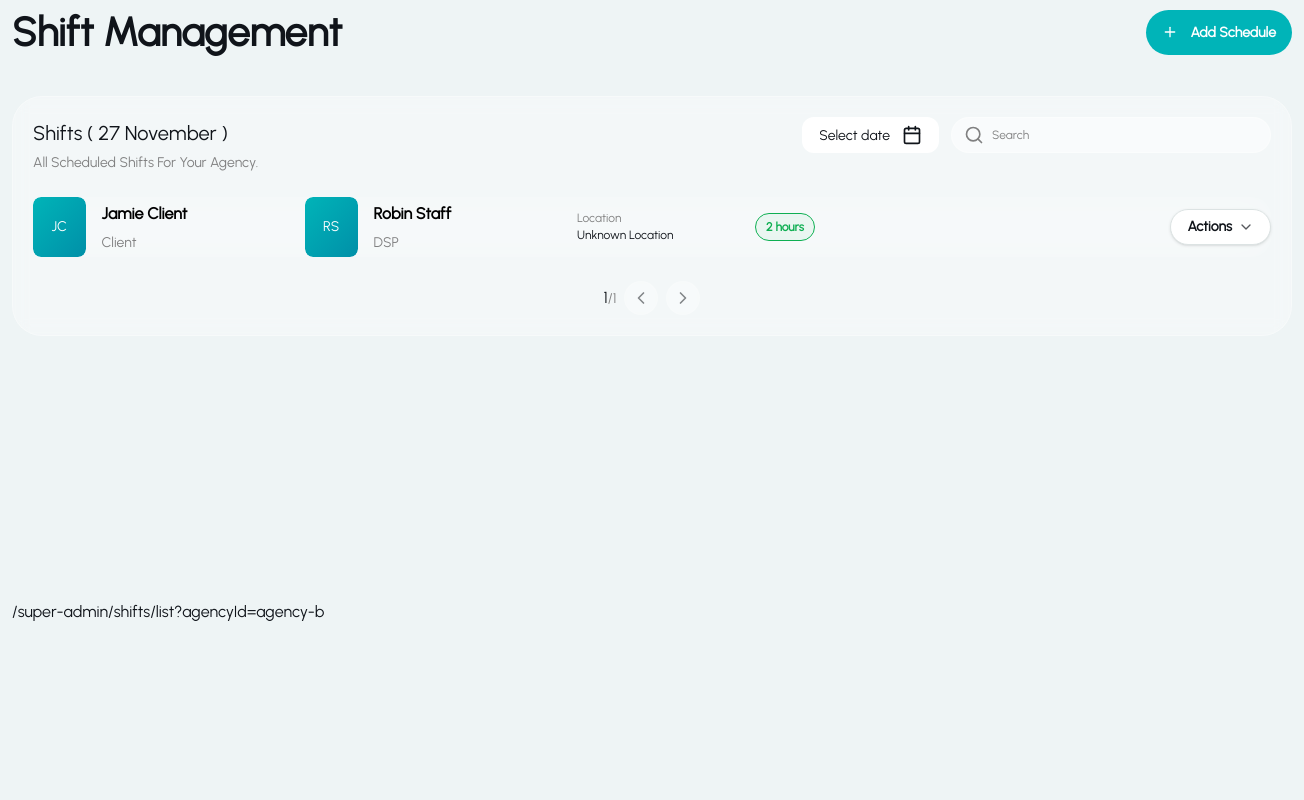
shared operational shift pages › opens a right-aligned row action menu with Details first and preserves super-admin scope
Click the button with aria-label "Shift actions for Jamie Client": [1221, 227] box [1170, 209, 1271, 245]
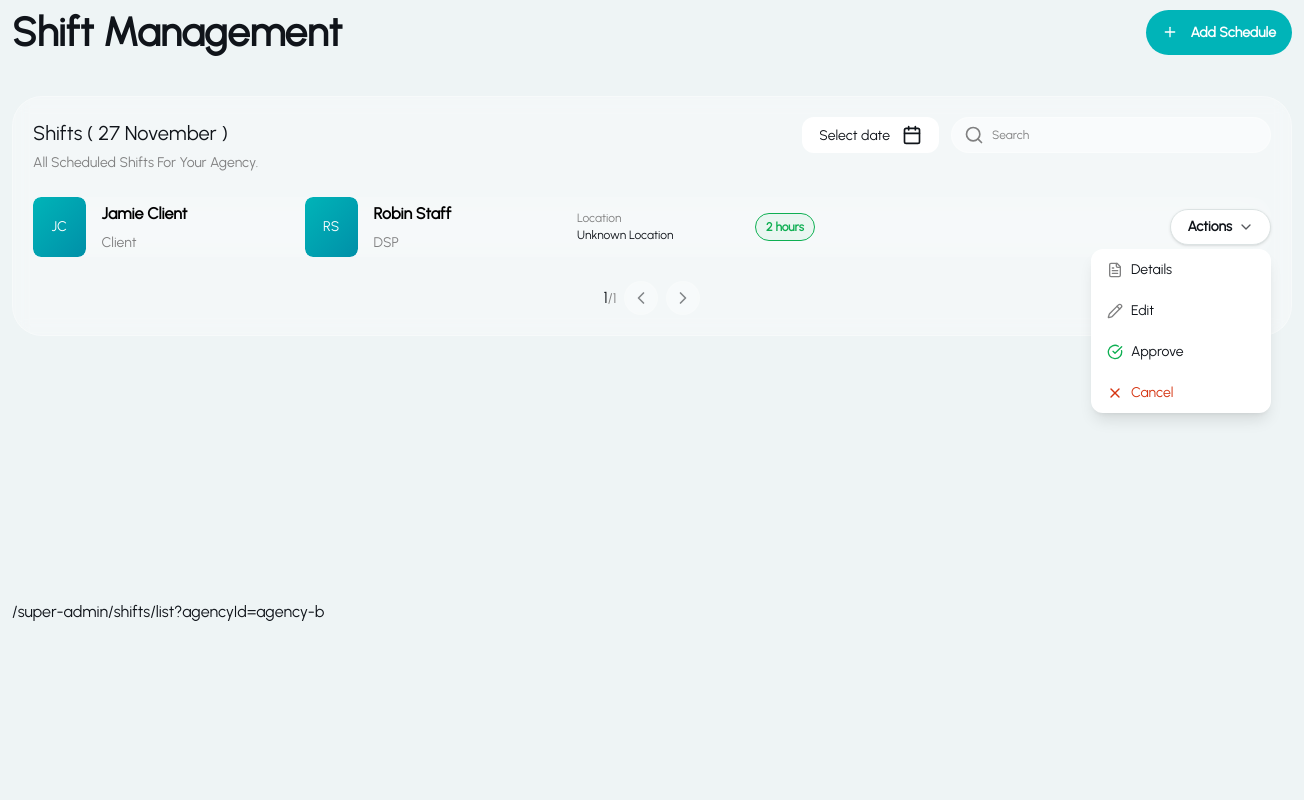
Check: the menu items read "Details", "Edit", "Approve", "Cancel", in this order
Click the menu item with aria-label "Open full shift details page": [1140, 270] box [1107, 261, 1172, 278]
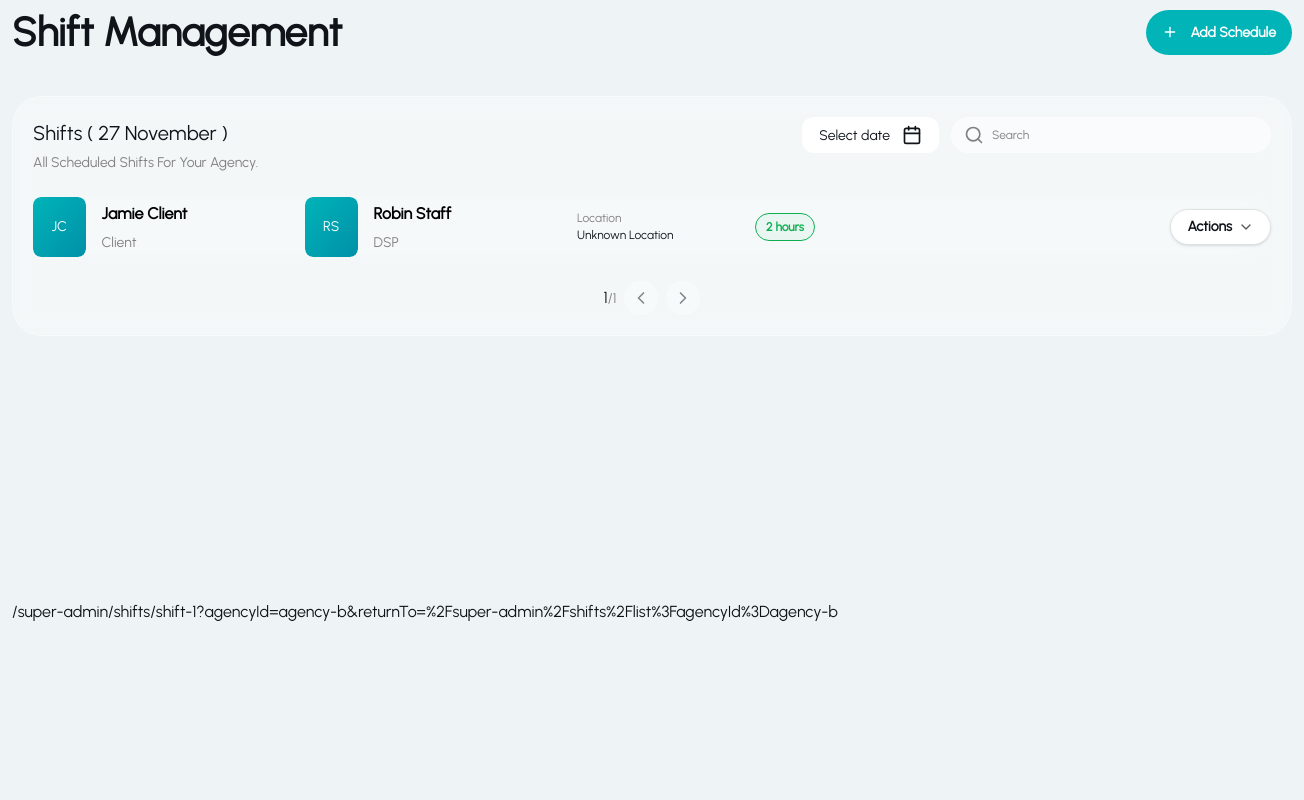
Check: the text named "Current route" shows "agencyId=agency-b", box [12, 602, 838, 621]
Check: the text named "Current route" shows "/super-admin/shifts/shift-1", box [12, 602, 838, 621]
Check: the text named "Current route" shows "returnTo=", box [12, 602, 838, 621]
